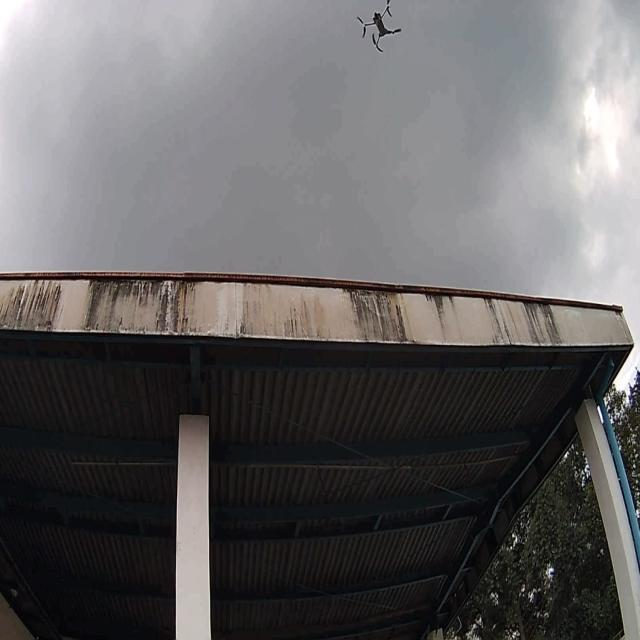drone: (356, 0, 402, 52)
